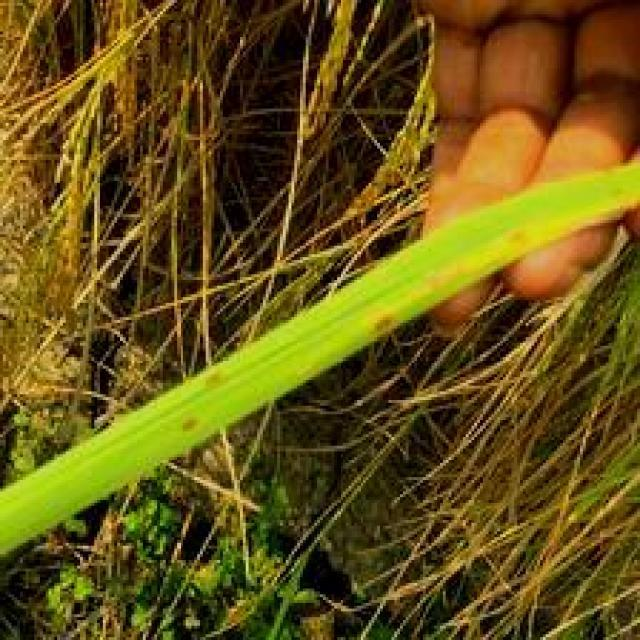Rice_Brownspot: (494, 217, 529, 246), (200, 363, 223, 386), (168, 412, 198, 428), (366, 314, 394, 329)
